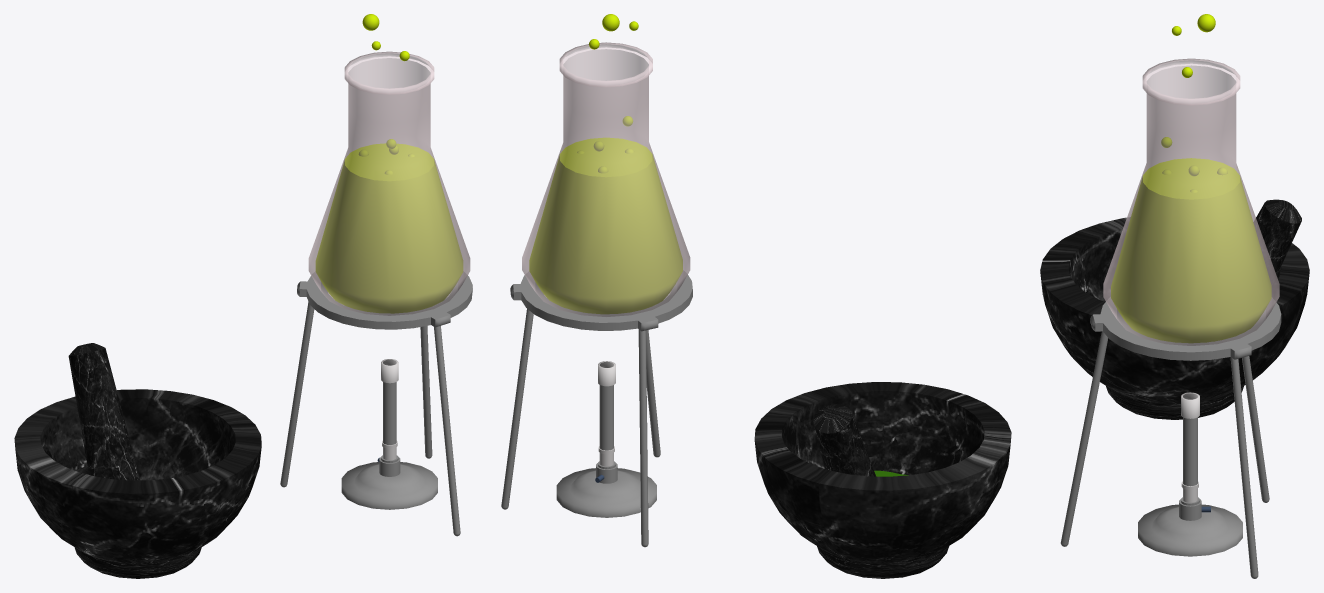
Rendered from chemistry_3december_day_3.glb.
The picture shows the model from 3 angles, left to right: view 1: azimuth 30°, elevation 25°; view 2: azimuth 150°, elevation 25°; view 3: azimuth 270°, elevation 25°; orthographic projection. The views are drawn at different scales.
Parts seen in each view (by area): view 1: Sphere001, Cylinder003, Object001_15 - Default_0, Circle001, Object_Material #38_0, Cylinder004; view 2: Sphere001, Cylinder003, Object001_15 - Default_0, Circle001, Cylinder004, Object_Material #38_0; view 3: Cylinder003, Object001_15 - Default_0, Sphere001, Circle001, Cylinder004, Object_Material #38_0.
Part boxes in pixels (bbox=[...]): Sphere001: bbox=[14, 389, 261, 578]; Cylinder003: bbox=[308, 51, 470, 315]; Object001_15 - Default_0: bbox=[316, 143, 462, 313]; Circle001: bbox=[280, 272, 472, 536]; Object_Material #38_0: bbox=[68, 343, 139, 480]; Cylinder004: bbox=[341, 359, 437, 509]; Sphere001: bbox=[754, 382, 1011, 578]; Cylinder003: bbox=[522, 42, 690, 316]; Object001_15 - Default_0: bbox=[529, 138, 682, 313]; Circle001: bbox=[501, 271, 692, 547]; Cylinder004: bbox=[556, 361, 656, 517]; Object_Material #38_0: bbox=[813, 404, 876, 476]; Cylinder003: bbox=[1103, 58, 1279, 345]; Object001_15 - Default_0: bbox=[1111, 158, 1271, 342]; Sphere001: bbox=[1040, 217, 1309, 419]; Circle001: bbox=[1060, 297, 1281, 578]; Cylinder004: bbox=[1138, 392, 1242, 556]; Object_Material #38_0: bbox=[1254, 199, 1301, 284].
Bounding box in the file's own units: 41.13 × 42.99 × 20.16.
7 materials, 1 textured.
